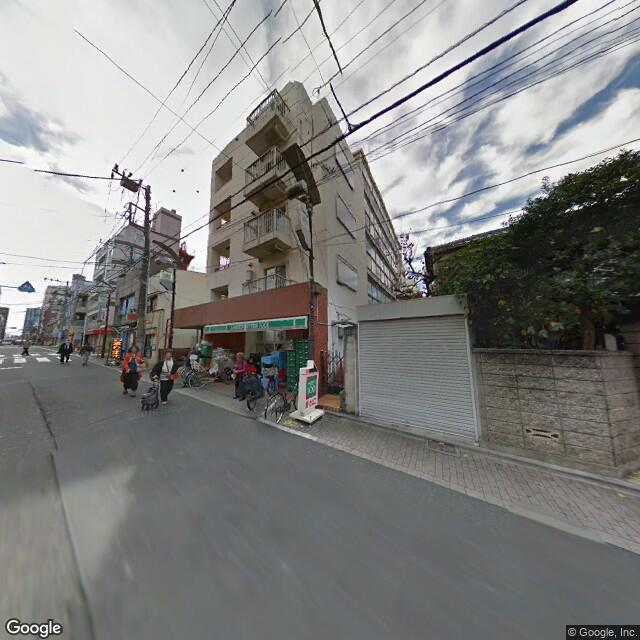lawson: (202, 312, 309, 334), (303, 370, 320, 410)
